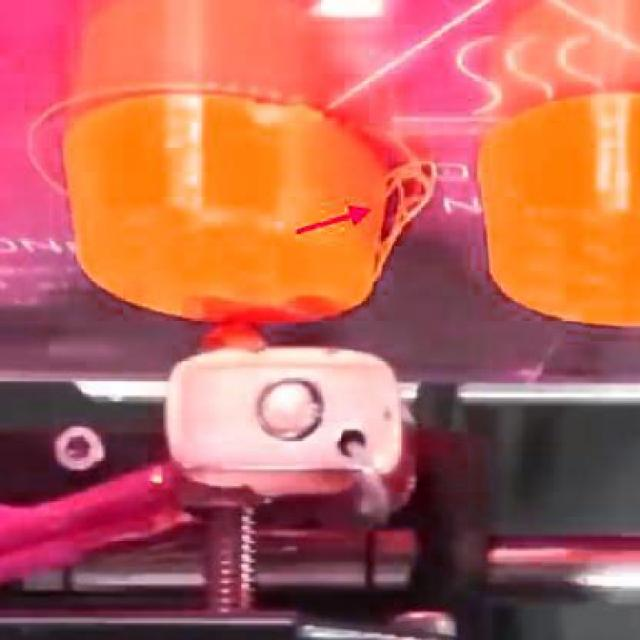Spaghetti: (356, 150, 444, 299)
